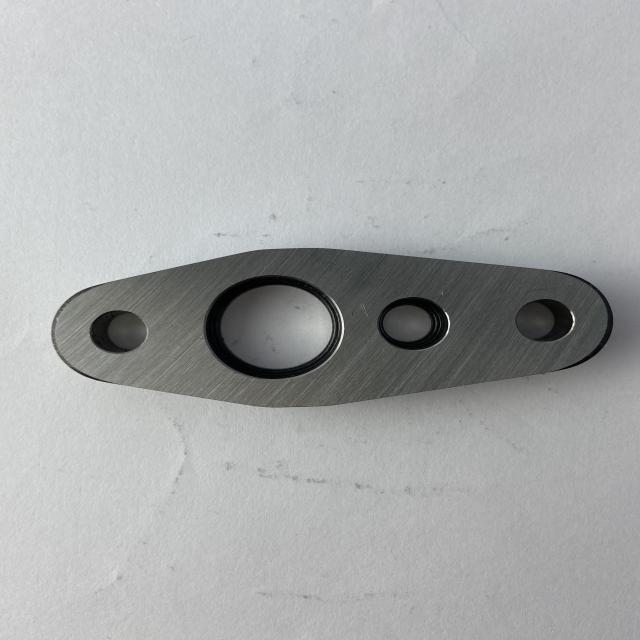chap: (359, 302, 369, 317), (224, 279, 237, 286), (439, 290, 447, 298), (409, 351, 414, 355)
lines: (521, 285, 571, 293)
